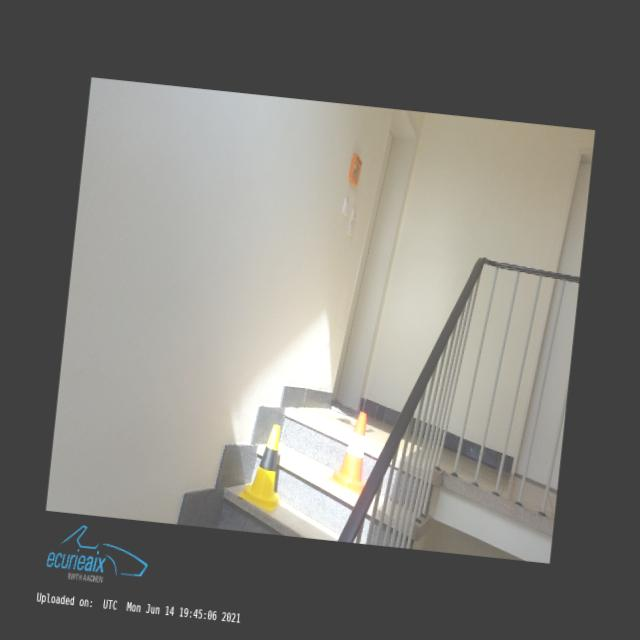orange_cone: (327, 410, 373, 494)
yellow_cone: (236, 421, 288, 512)
